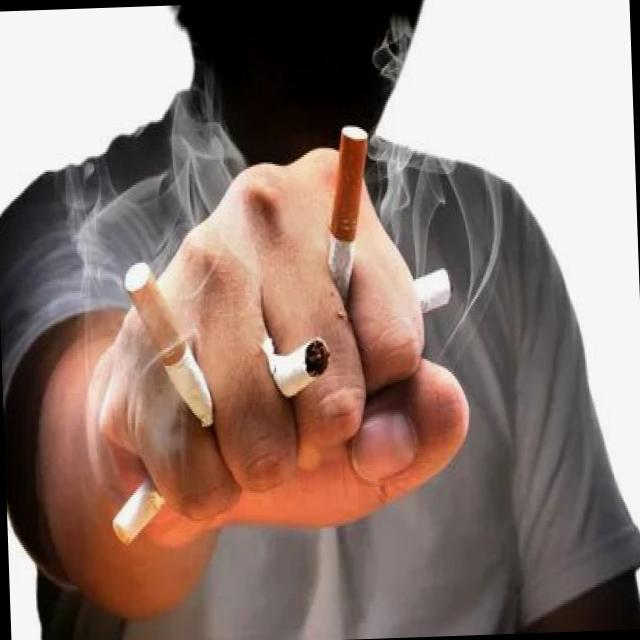cigarette: (116, 252, 223, 437), (316, 124, 376, 308), (102, 468, 168, 564), (266, 332, 336, 404), (414, 263, 462, 313)
